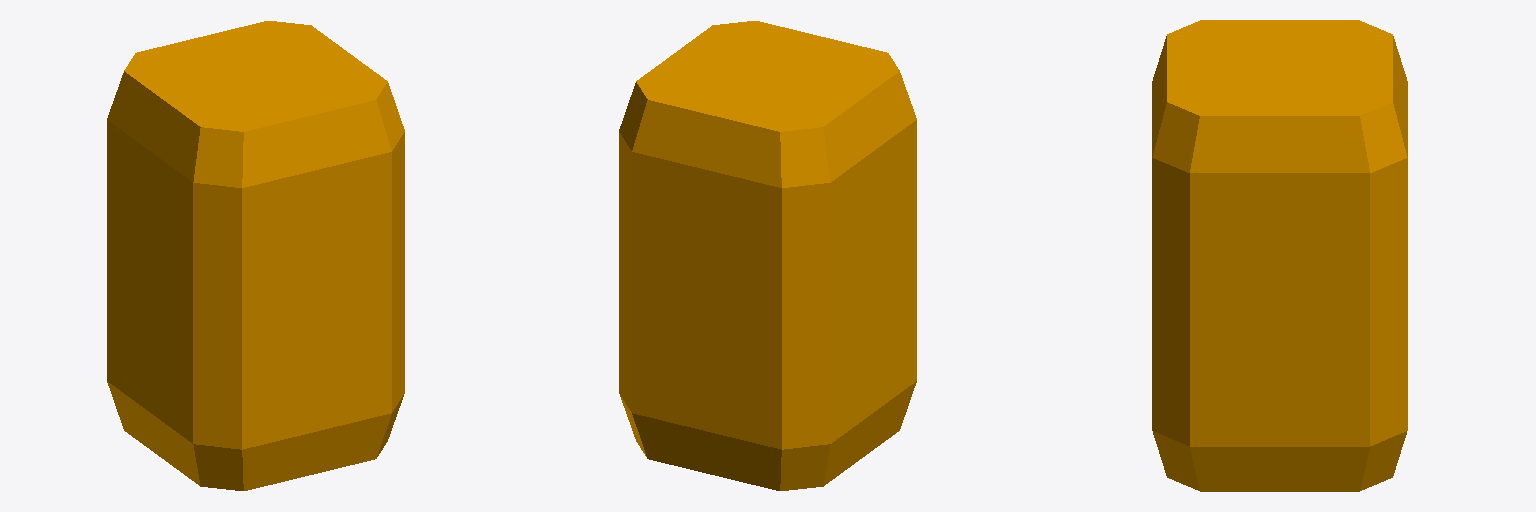
robot.urdf — shaker:
<?xml version="1.0"?>
<robot name="shaker">
  <link name="shaker">
    <inertial>
        <origin rpy="0 0 0" xyz="0 0 0"/>
        <mass value="0.001"/>
        <inertia ixx="3.6e-6" ixy="0" ixz="0" iyy="3.6e-6" iyz="0" izz="3.6e-6"/>
    </inertial>
    <visual>
      <geometry>
        <mesh filename="./shaker.obj"/>
      </geometry>
    </visual>
    <collision>
      <geometry>
        <mesh filename="./shaker.obj"/>
      </geometry>
    </collision>
  </link>
</robot>

--- Render facts (derived) ---
3 views of the same robot in one strip: view 1: azimuth 30°, elevation 25°; view 2: azimuth 150°, elevation 25°; view 3: azimuth 270°, elevation 25° (orthographic).
Model shaker with 1 links and 0 joints (none), rooted at shaker, posed every joint at zero.
Visible links, largest first — view 1: shaker; view 2: shaker; view 3: shaker.
Link boxes in pixels (bbox=[...]): shaker: bbox=[107, 21, 404, 490]; shaker: bbox=[619, 21, 916, 490]; shaker: bbox=[1152, 20, 1407, 491].
Bounding box of the posed robot: 0.0949 × 0.0949 × 0.154 m (x, y, z).
Meshes: 1 distinct files referenced, 1 mesh visuals loaded (1 OBJ).
